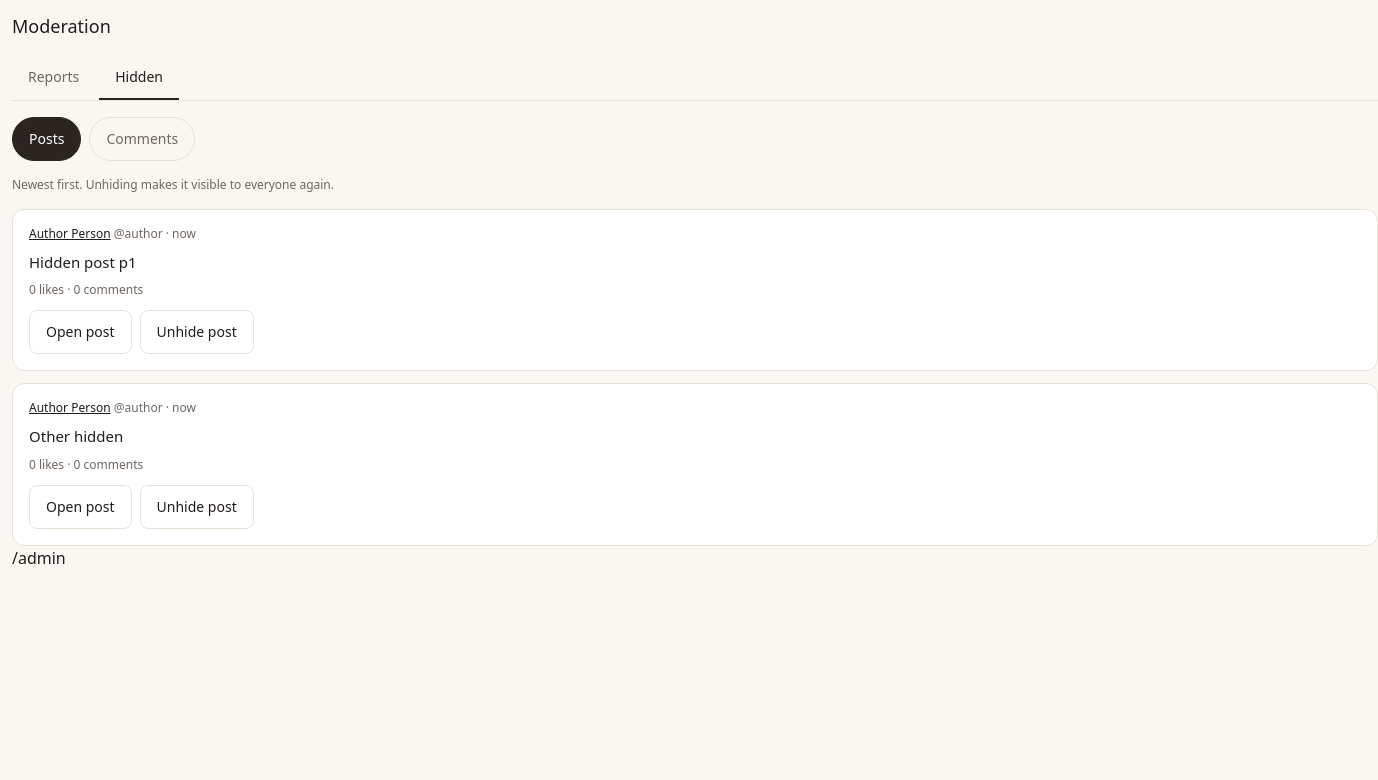
Test: hidden content › unhides a post without needing a report, and it leaves the list
The image size is (1378, 780).
Step 1. Click the button "Unhide post" below "Hidden post p1" → (197, 332), box 140,310 -> 254,354
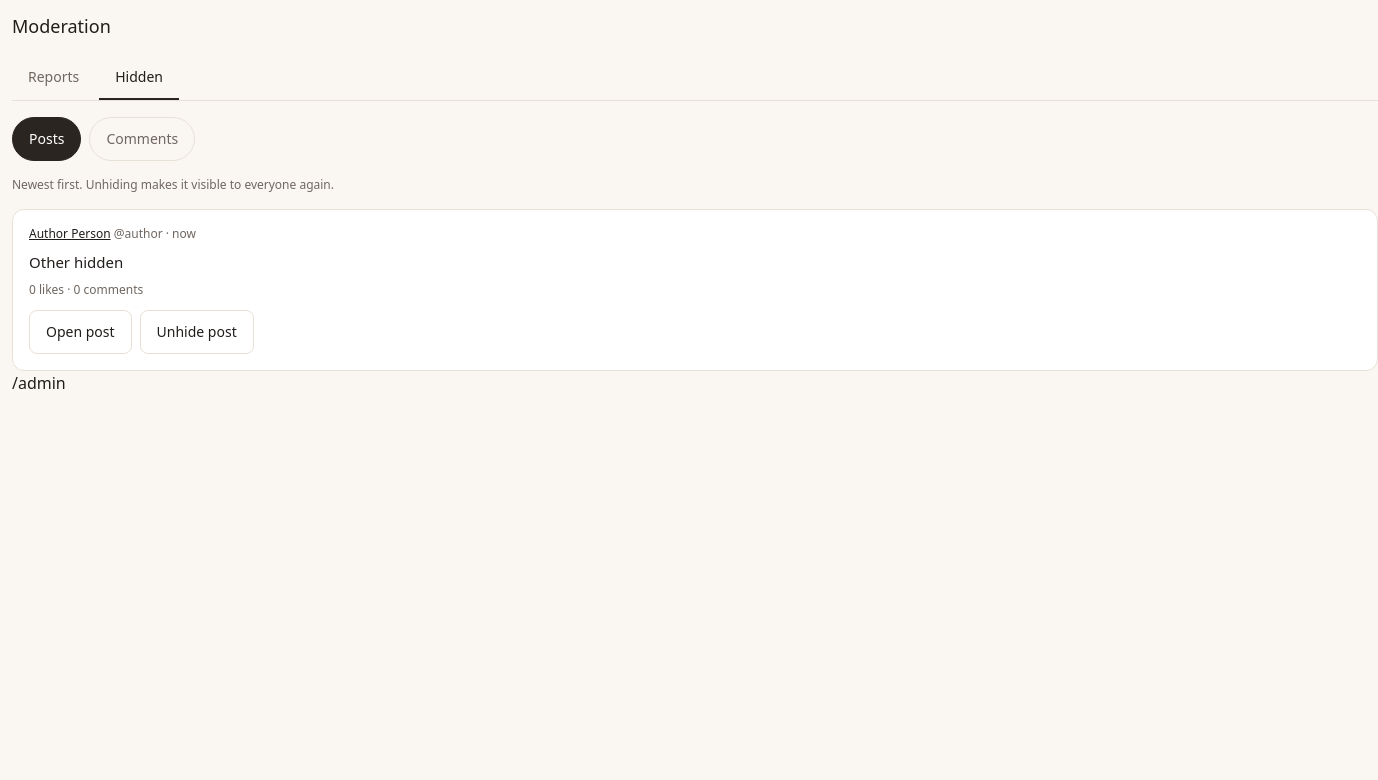
expect the text "Other hidden" is shown: met, box 29,252 -> 123,272
expect the text "Hidden post p1" is gone: met
